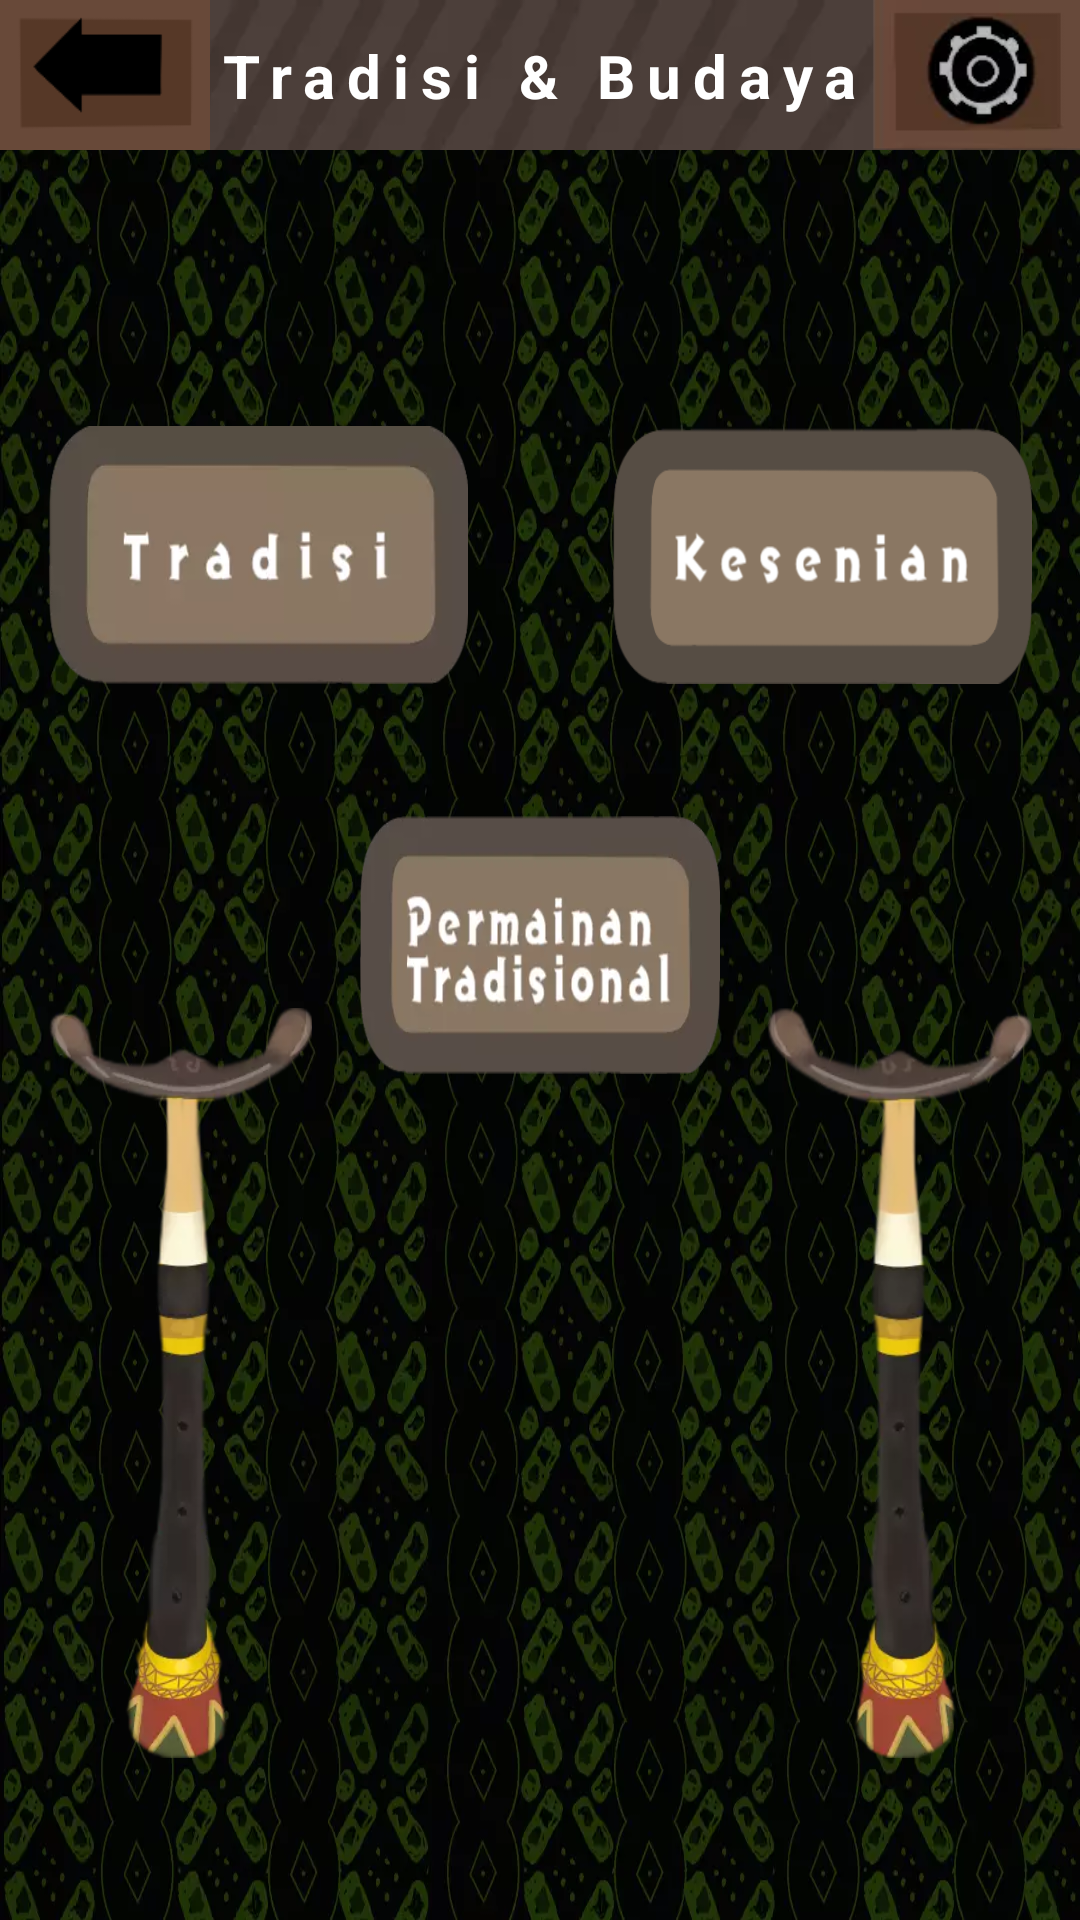

Icon click points for this 1080px x 1920px phone screenshot, format (x=x, y=y):
Back Button: (x=105, y=75)
Settings Button: (x=975, y=75)
